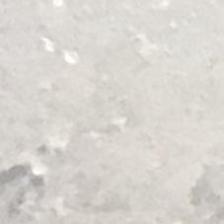Non_Crack: (16, 7, 224, 224)
